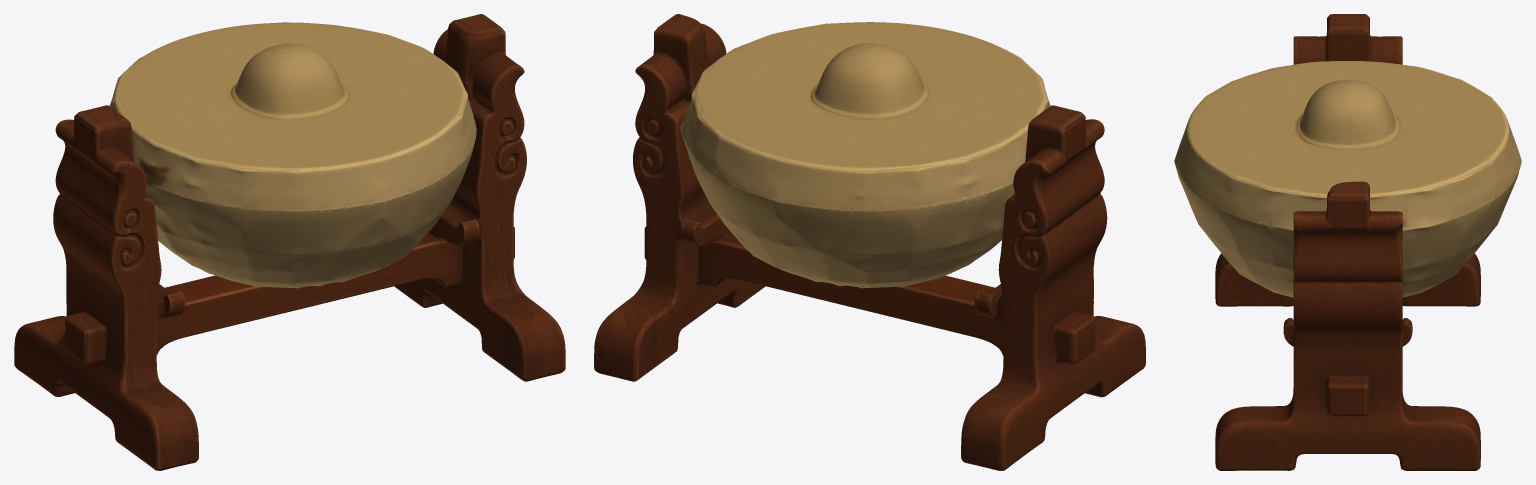
The model's file is kenong.glb.
The picture shows the model from 3 angles, left to right: view 1: azimuth 30°, elevation 25°; view 2: azimuth 150°, elevation 25°; view 3: azimuth 270°, elevation 25°; orthographic projection. The views are drawn at different scales.
Bounding box in the file's own units: 1.9 × 1.36 × 1.44.
1 material, 1 textured.
